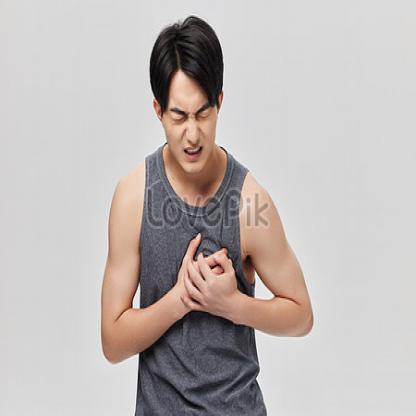pain: (163, 98, 219, 127)
